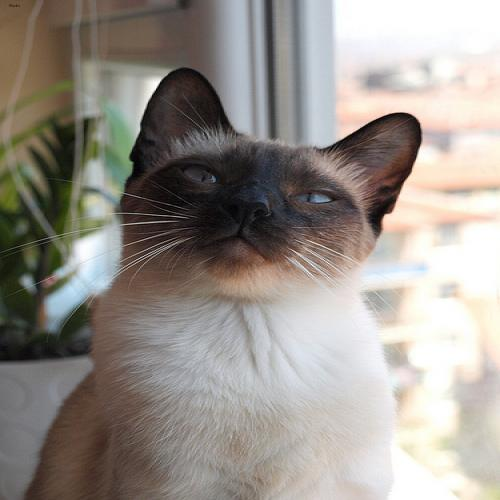siamese: (120, 55, 447, 306)
